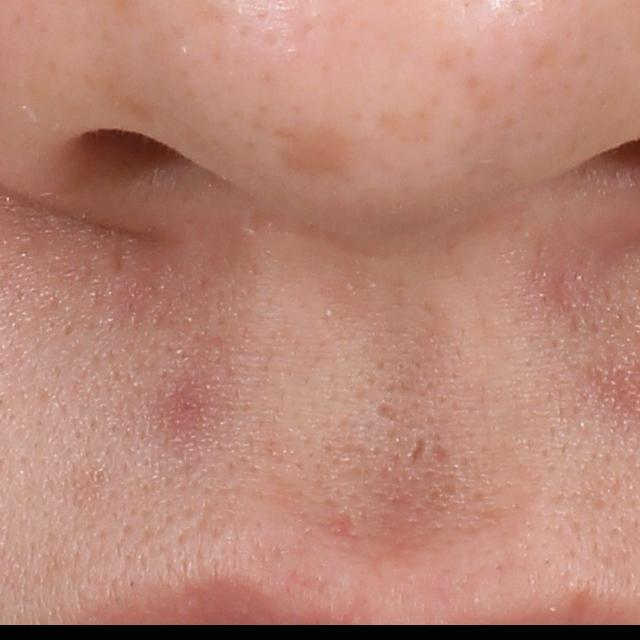atrophic_scar: (411, 438, 426, 461)
